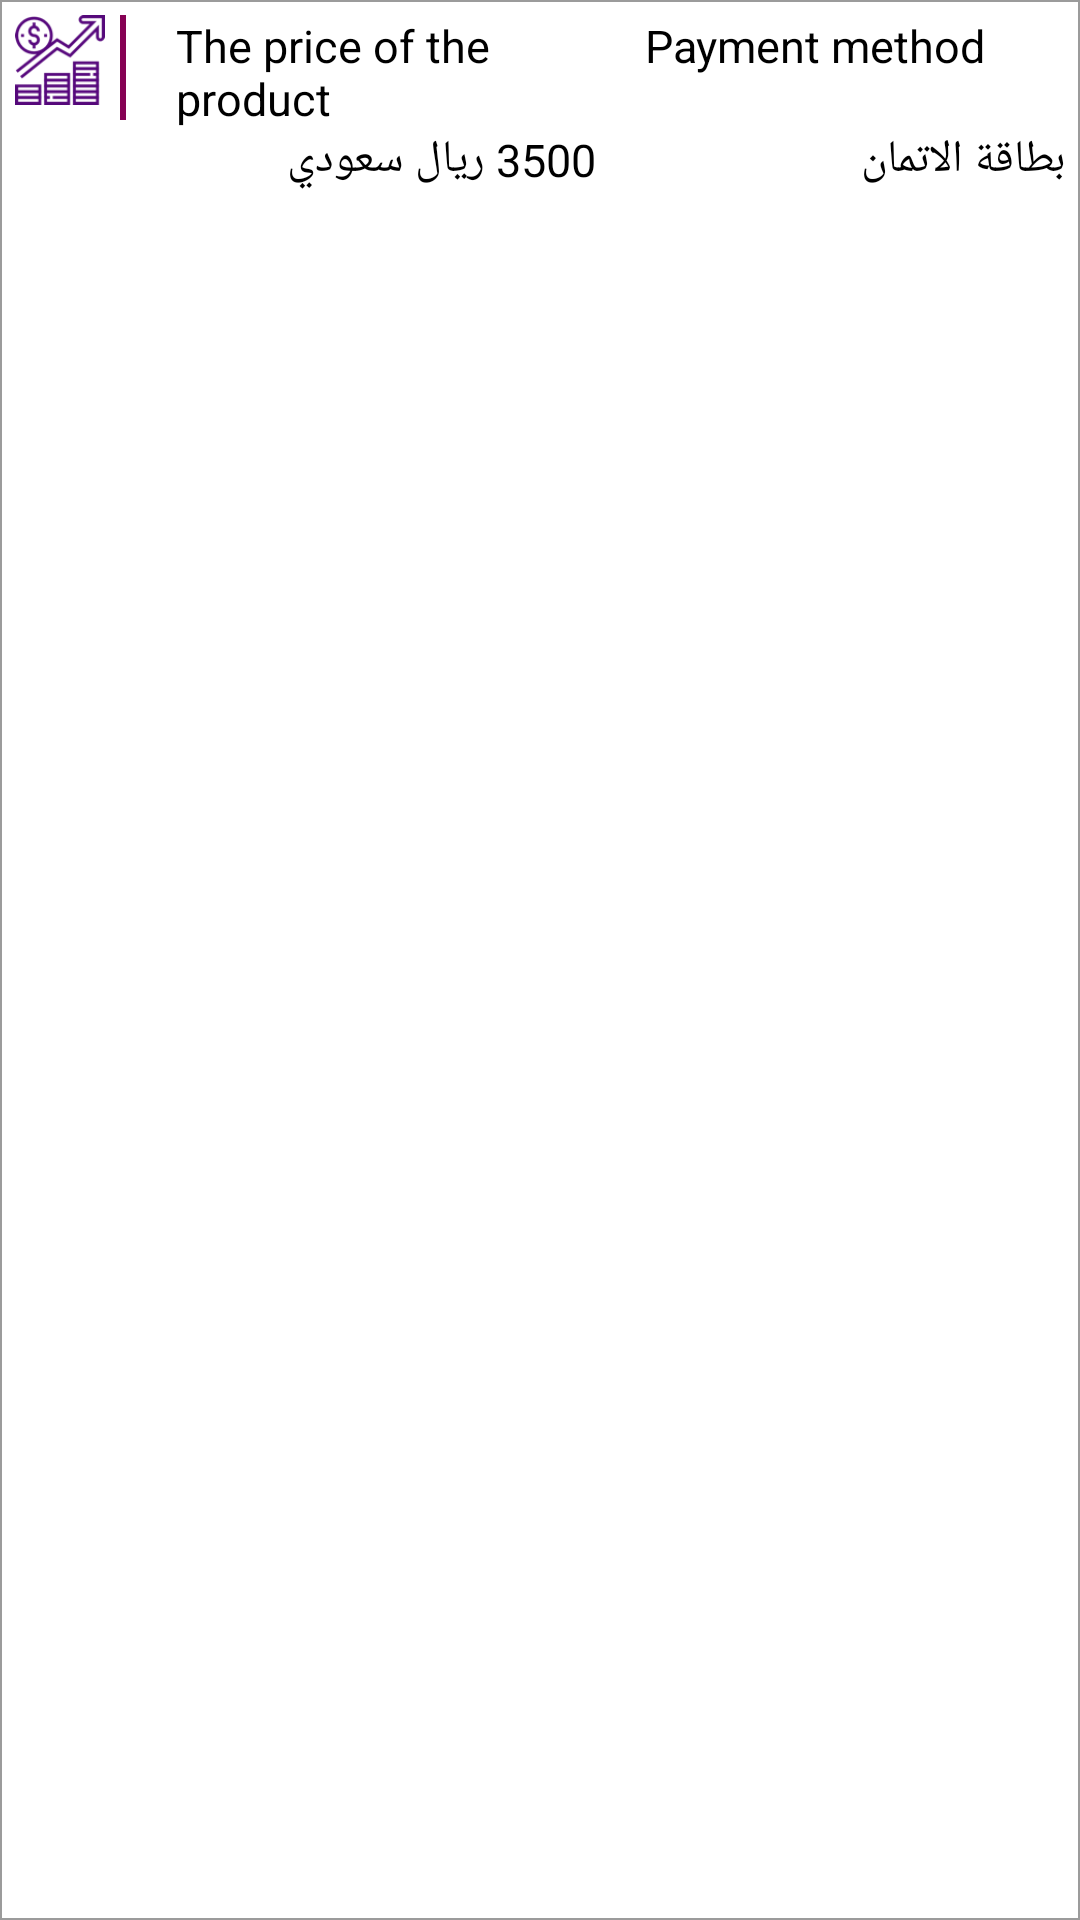

Point at icon controls on the screen. Image size 1080px x 1920px, points as [x,y].
income: [60,60]
